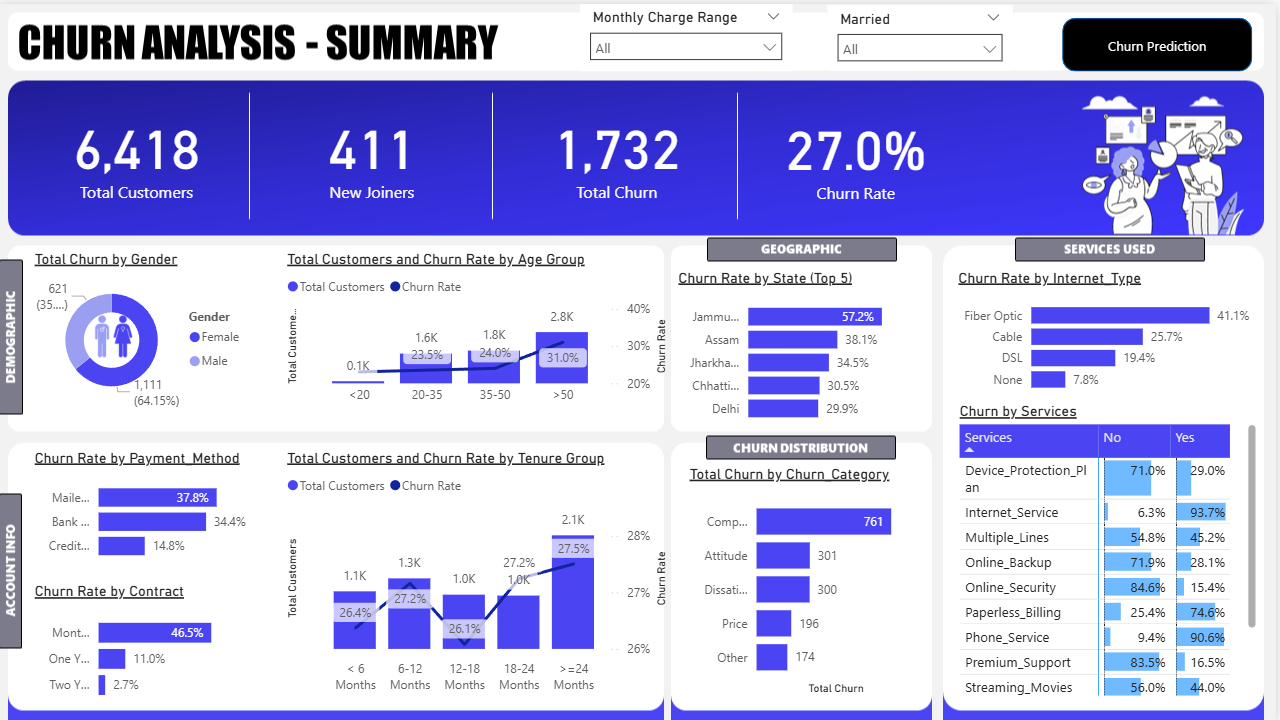

Layout of this report page (visuals, bound fields, positions):
{"tool":"powerbi","page":{"name":"Summary","canvas":[1280,720],"ordinal":0},"visuals":[{"type":"image","box":[72.7,300.5,90.6,63.1],"z":0},{"type":"card","fields":{"Values":["tbl_Measures.Total Customers"]},"box":[34.3,83.7,214.1,131.7],"z":1000},{"type":"card","fields":{"Values":["tbl_Measures.Churn Rate"]},"box":[747.9,85.1,225,131.7],"z":2000},{"type":"card","fields":{"Values":["tbl_Measures.Total Churn"]},"box":[503.6,83.7,234.6,131.7],"z":3000},{"type":"card","fields":{"Values":["tbl_Measures.New Joiners"]},"box":[259.3,83.7,234.6,131.7],"z":4000},{"type":"donutChart","fields":{"Category":["prod_Churn.Gender"],"Y":["tbl_Measures.Total Churn"]},"box":[34.3,245.6,225,163.3],"z":5000},{"type":"lineStackedColumnComboChart","fields":{"Category":["mapping_AgeGrp.Age Group "],"Y":["tbl_Measures.Total Customers"],"Y2":["tbl_Measures.Churn Rate"]},"box":[286.8,245.6,391.1,163.3],"z":6000},{"type":"clusteredBarChart","fields":{"Category":["prod_Churn.Payment_Method"],"Y":["tbl_Measures.Churn Rate"]},"box":[34.3,444.6,225,122.1],"z":7000},{"type":"clusteredBarChart","fields":{"Category":["prod_Churn.Contract"],"Y":["tbl_Measures.Churn Rate"]},"box":[34.3,579.1,225,129],"z":8000},{"type":"lineStackedColumnComboChart","fields":{"Category":["mapping_TenureGrp.Tenure Group"],"Y":["tbl_Measures.Total Customers"],"Y2":["tbl_Measures.Churn Rate"]},"box":[286.8,444.6,391.1,251.1],"z":9000},{"type":"clusteredBarChart","title":"Churn Rate by State (Top 5)","fields":{"Category":["prod_Churn.State"],"Y":["tbl_Measures.Churn Rate"]},"box":[677.9,264.8,247,163.3],"z":10000},{"type":"clusteredBarChart","fields":{"Category":["prod_Churn.Churn_Category"],"Y":["tbl_Measures.Total Churn"]},"box":[688.9,461.1,236,234.6],"z":11000},{"type":"clusteredBarChart","fields":{"Category":["prod_Churn.Internet_Type"],"Y":["tbl_Measures.Churn Rate"]},"box":[957.8,264.8,307.4,133.1],"z":12000},{"type":"pivotTable","title":"Churn by Services","fields":{"Rows":["prod_Services.Services"],"Columns":["prod_Services.Status"],"Values":["Sum(prod_Services.Churn Status)"]},"box":[958.1,398.8,307,297.7],"z":13000},{"type":"slicer","fields":{"Values":["prod_Services.Monthly Charge Status"]},"box":[583.2,0,212.7,67.2],"z":14000},{"type":"slicer","fields":{"Values":["prod_Services.Married"]},"box":[831.6,1.4,185.2,65.9],"z":15000},{"type":"shape","box":[1066.2,13.8,190,53.8],"z":15001}]}

Visuals, with their boxes in screenshot pixels (x1, y1, x2, y2), scaled from the page's 1280x720 canvas onto the 1280x720 screenshot:
image: box=[73, 300, 163, 364]
card - tbl_Measures.Total Customers: box=[34, 84, 248, 215]
card - tbl_Measures.Churn Rate: box=[748, 85, 973, 217]
card - tbl_Measures.Total Churn: box=[504, 84, 738, 215]
card - tbl_Measures.New Joiners: box=[259, 84, 494, 215]
donutChart - prod_Churn.Gender x tbl_Measures.Total Churn: box=[34, 246, 259, 409]
lineStackedColumnComboChart - mapping_AgeGrp.Age Group  x tbl_Measures.Total Customers: box=[287, 246, 678, 409]
clusteredBarChart - prod_Churn.Payment_Method x tbl_Measures.Churn Rate: box=[34, 445, 259, 567]
clusteredBarChart - prod_Churn.Contract x tbl_Measures.Churn Rate: box=[34, 579, 259, 708]
lineStackedColumnComboChart - mapping_TenureGrp.Tenure Group x tbl_Measures.Total Customers: box=[287, 445, 678, 696]
"Churn Rate by State (Top 5)" clusteredBarChart: box=[678, 265, 925, 428]
clusteredBarChart - prod_Churn.Churn_Category x tbl_Measures.Total Churn: box=[689, 461, 925, 696]
clusteredBarChart - prod_Churn.Internet_Type x tbl_Measures.Churn Rate: box=[958, 265, 1265, 398]
"Churn by Services" pivotTable: box=[958, 399, 1265, 696]
slicer - prod_Services.Monthly Charge Status: box=[583, 0, 796, 67]
slicer - prod_Services.Married: box=[832, 1, 1017, 67]
shape: box=[1066, 14, 1256, 68]
